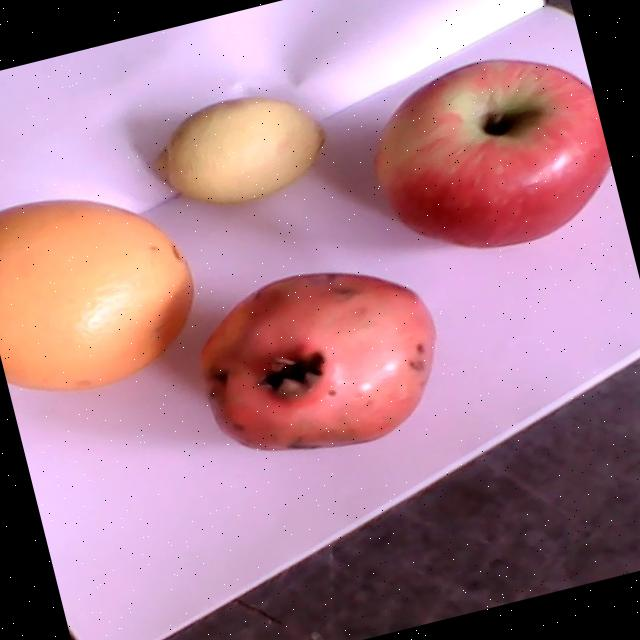apple: (371, 60, 611, 248)
lemon: (145, 99, 324, 204)
orange: (0, 201, 194, 391)
pomegranate: (198, 272, 434, 450)
